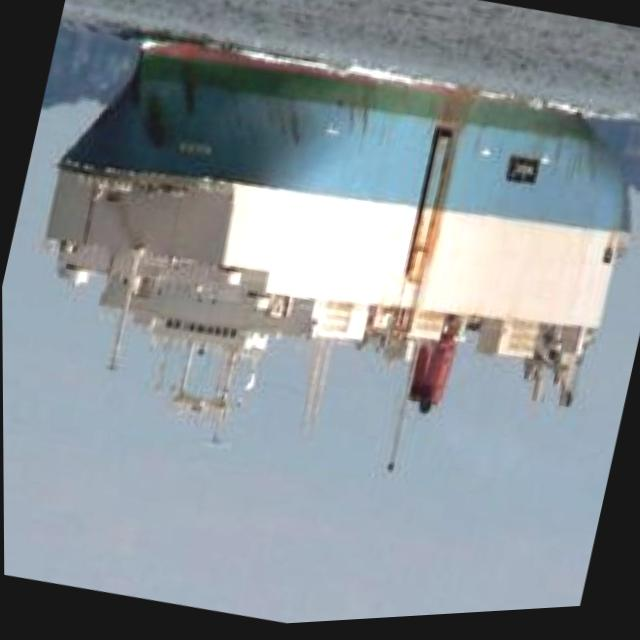ship2: (38, 35, 634, 479)
